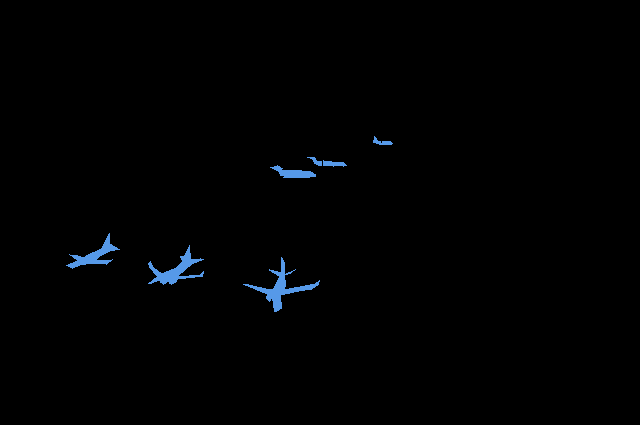Airplane: (243, 257, 320, 312), (148, 245, 204, 284), (66, 233, 119, 268), (270, 165, 315, 178), (307, 157, 346, 167), (373, 136, 392, 144)
